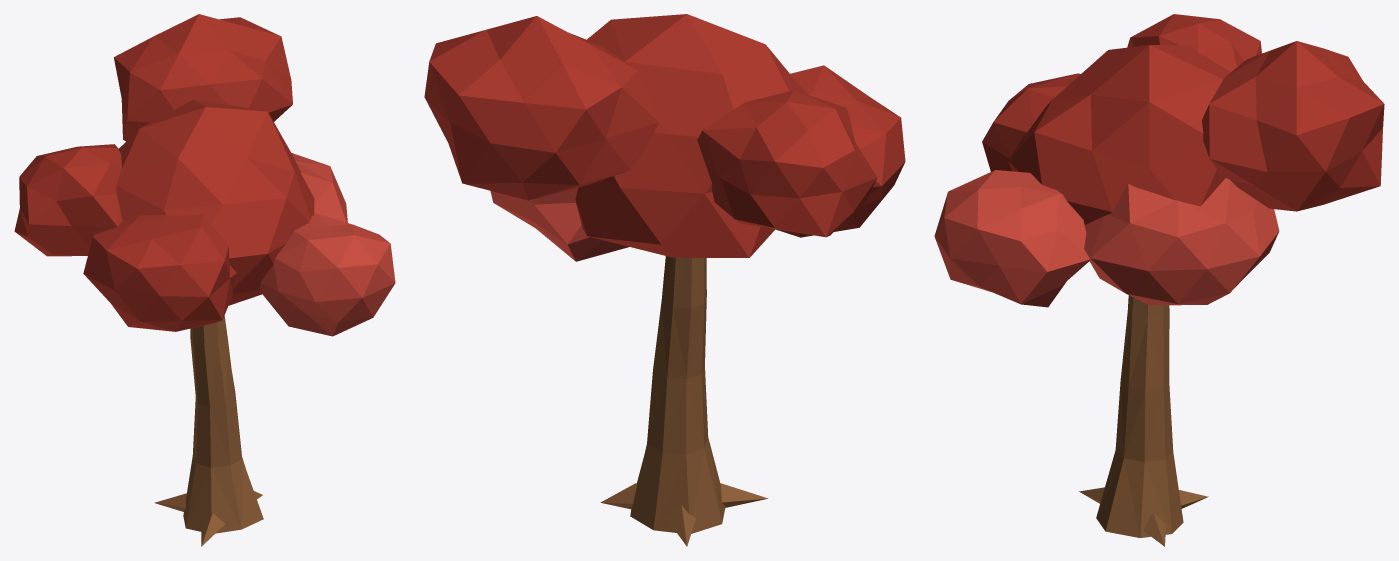
Rendered from HS_LP_Tree_RedMaple_01.fbx.
The picture shows the model from 3 angles, left to right: view 1: azimuth 30°, elevation 25°; view 2: azimuth 150°, elevation 25°; view 3: azimuth 270°, elevation 25°; orthographic projection. The views are drawn at different scales.
Parts seen in each view (by area): view 1: HS_LP_Tree_RedMaple_01; view 2: HS_LP_Tree_RedMaple_01; view 3: HS_LP_Tree_RedMaple_01.
Part boxes in pixels (x1,y1,x2,y2): HS_LP_Tree_RedMaple_01: [14, 14, 395, 546]; HS_LP_Tree_RedMaple_01: [424, 14, 905, 546]; HS_LP_Tree_RedMaple_01: [934, 14, 1384, 546].
Size of the model in its own units: 332 by 462 by 371.
